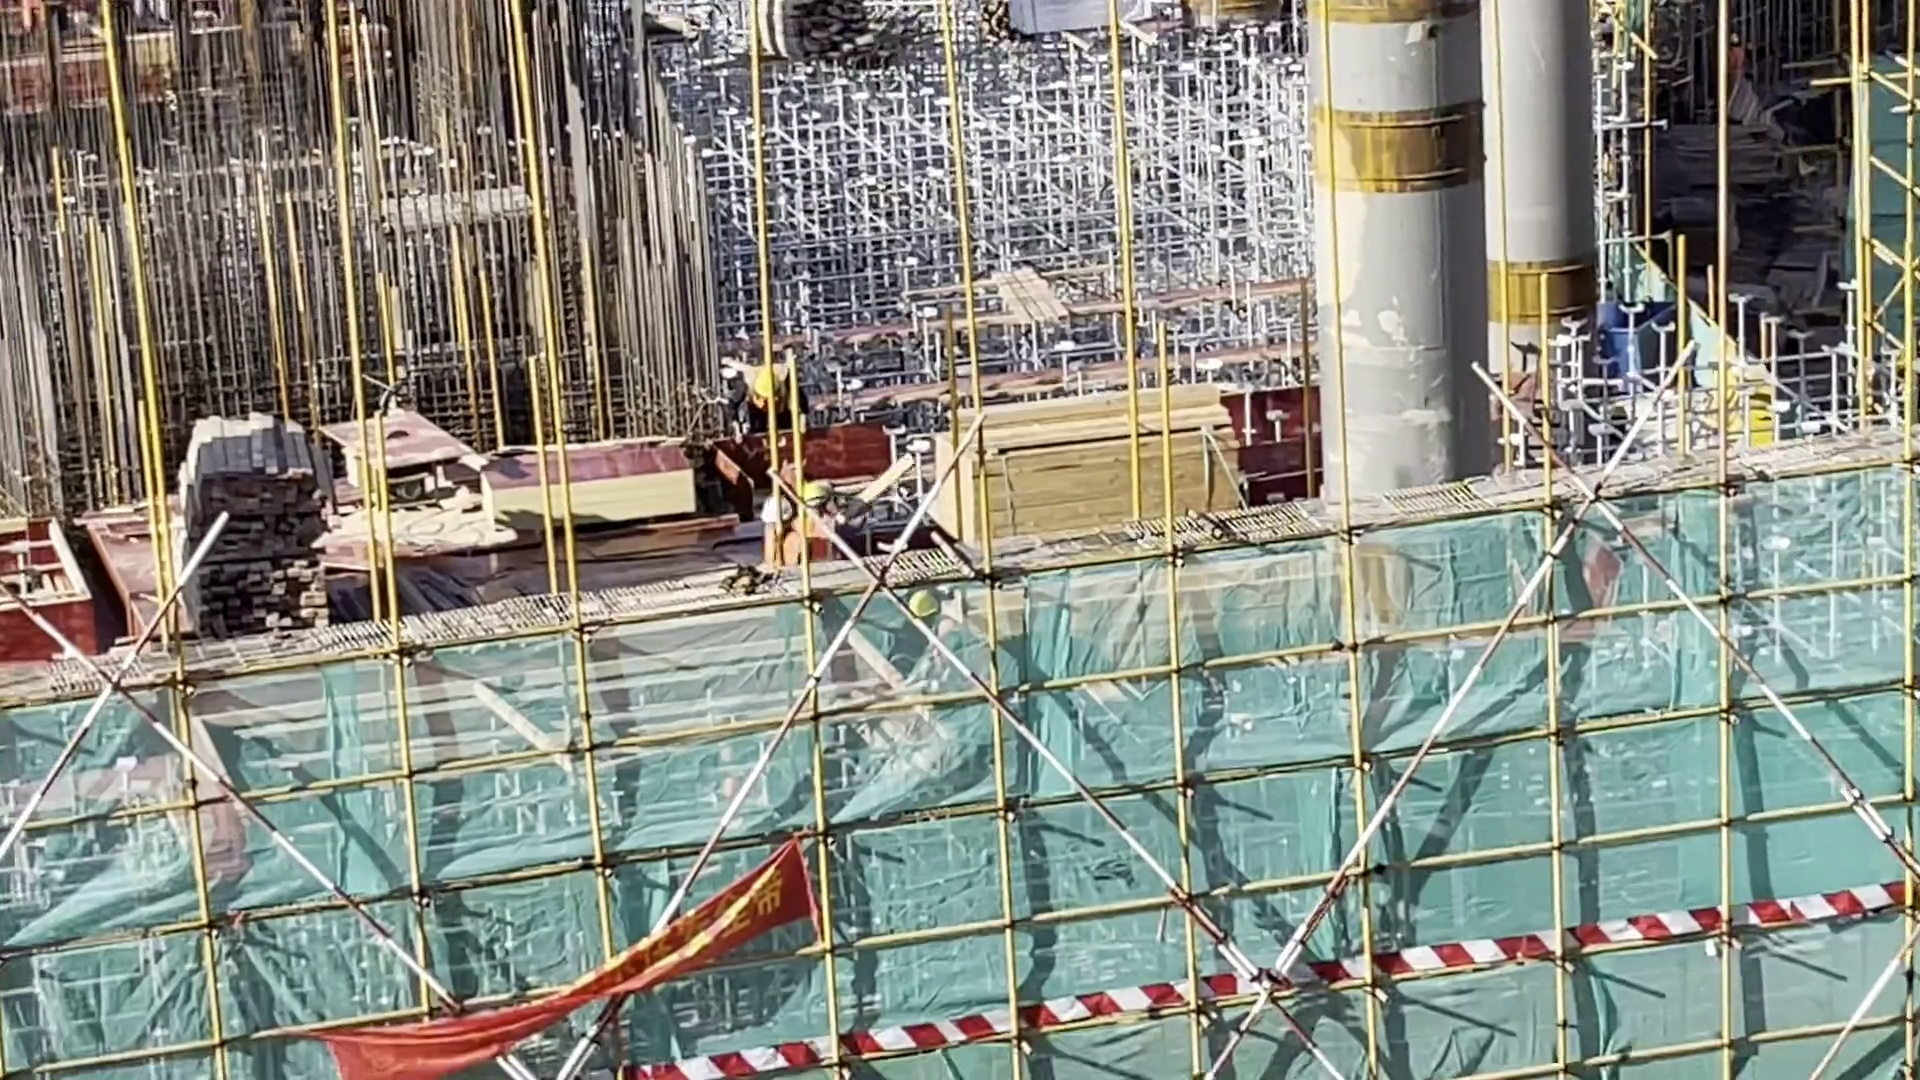wood: (914, 389, 1274, 546), (170, 407, 373, 654)
